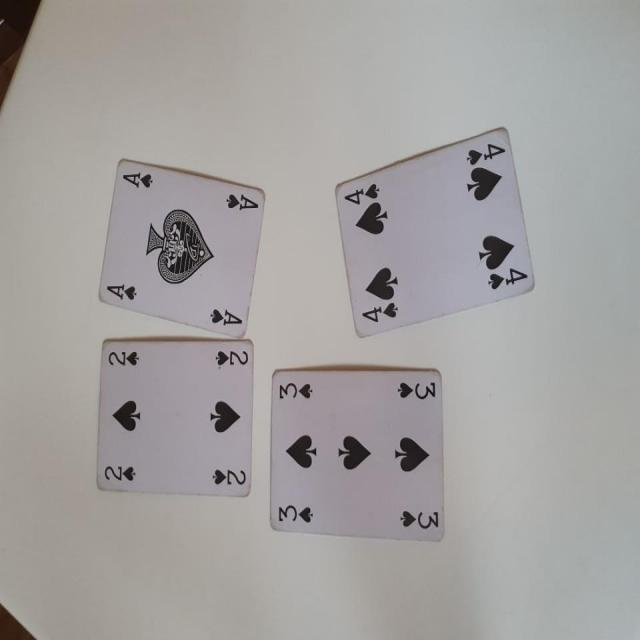3 Diamonds: (92, 338, 256, 500)
4 Diamonds: (271, 367, 447, 542)
5 Diamonds: (330, 121, 538, 339)
A Spades: (100, 159, 260, 340)
